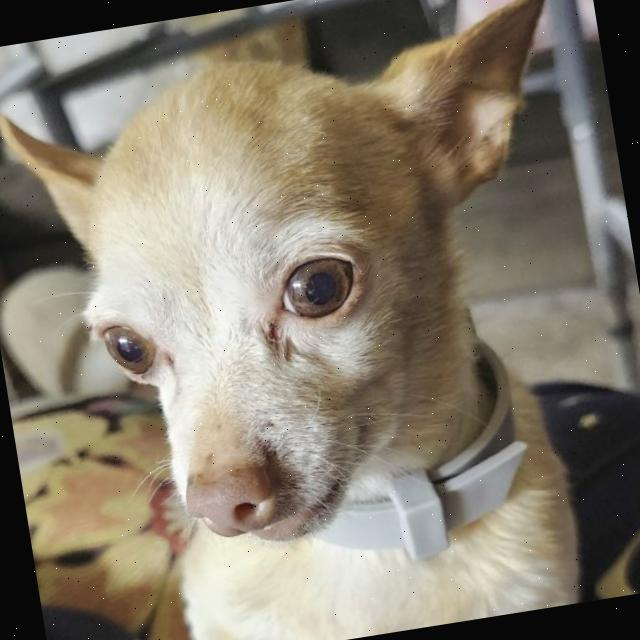chihuahua_dog: (0, 0, 635, 590)
